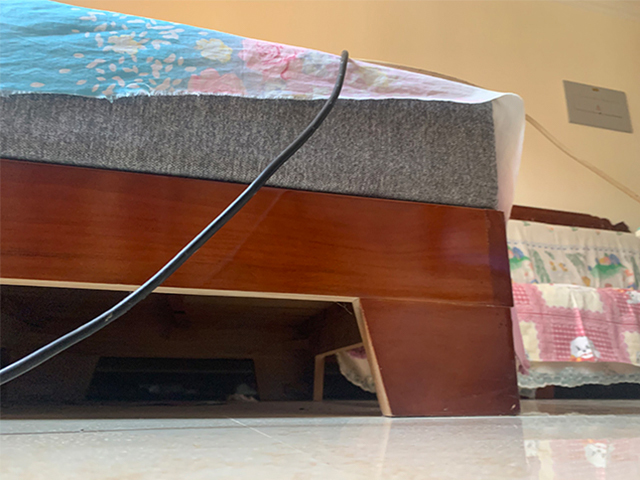sofa: (1, 1, 500, 417), (507, 202, 640, 404)
wire: (1, 49, 349, 384)
